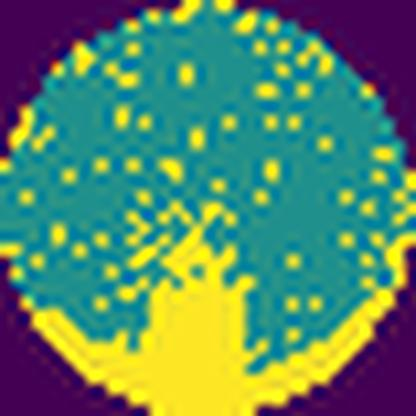Edge-Loc: (18, 218, 415, 416)
